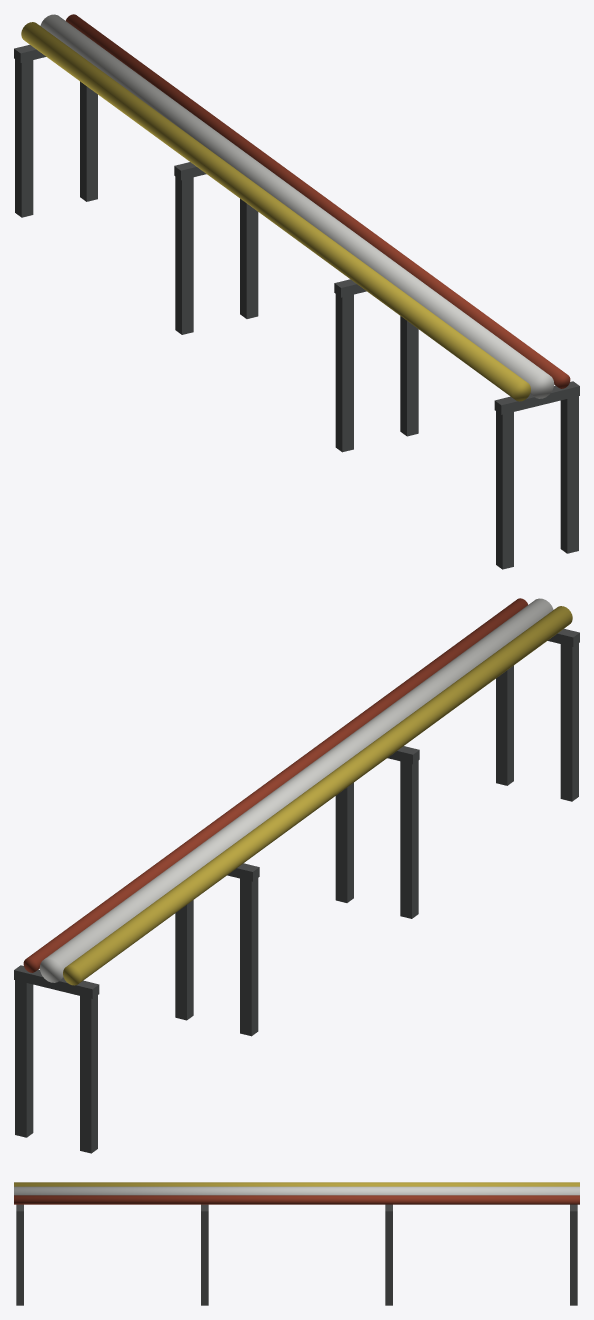
File: PipeRack.fbx
3 renders of one model, top to bottom at view 1: azimuth 30°, elevation 25°; view 2: azimuth 150°, elevation 25°; view 3: azimuth 270°, elevation 25°, orthographic. The views are drawn at different scales.
Parts seen in each view (by area): view 1: Pipe0, Pipe1, Pipe2, Post1-1, Post2-1, Post3-1, Post01, Post0-1, Post11, Post21, Post31, Beam0; view 2: Pipe0, Pipe1, Pipe2, Post1-1, Post2-1, Post31, Post0-1, Post3-1, Post21, Post11, Post01, Beam3; view 3: Pipe1, Pipe2, Pipe0, Post01, Post11, Post21, Post31.
Part boxes in pixels (x1,y1,x2,y2): Pipe0: (21, 22, 530, 401); Pipe1: (40, 14, 554, 398); Pipe2: (65, 14, 570, 388); Post1-1: (335, 280, 353, 452); Post2-1: (175, 163, 193, 334); Post3-1: (15, 46, 33, 217); Post01: (560, 382, 578, 553); Post0-1: (496, 397, 513, 569); Post11: (400, 316, 418, 436); Post21: (240, 198, 258, 318); Post31: (80, 81, 97, 201); Beam0: (494, 381, 579, 414); Pipe0: (63, 606, 572, 985); Pipe1: (39, 598, 553, 982); Pipe2: (23, 598, 528, 972); Post1-1: (400, 747, 418, 918); Post2-1: (240, 864, 258, 1036); Post31: (15, 966, 33, 1137); Post0-1: (560, 630, 578, 801); Post3-1: (80, 981, 97, 1153); Post21: (175, 900, 193, 1020); Post11: (335, 782, 353, 902); Post01: (496, 665, 513, 785); Beam3: (14, 965, 99, 998); Pipe1: (14, 1186, 579, 1195); Pipe2: (14, 1195, 579, 1204); Pipe0: (14, 1182, 579, 1186); Post01: (16, 1217, 23, 1305); Post11: (201, 1217, 208, 1305); Post21: (385, 1217, 392, 1305); Post31: (570, 1217, 577, 1305).
Size of the model in its own units: 170 by 1840 by 387.
